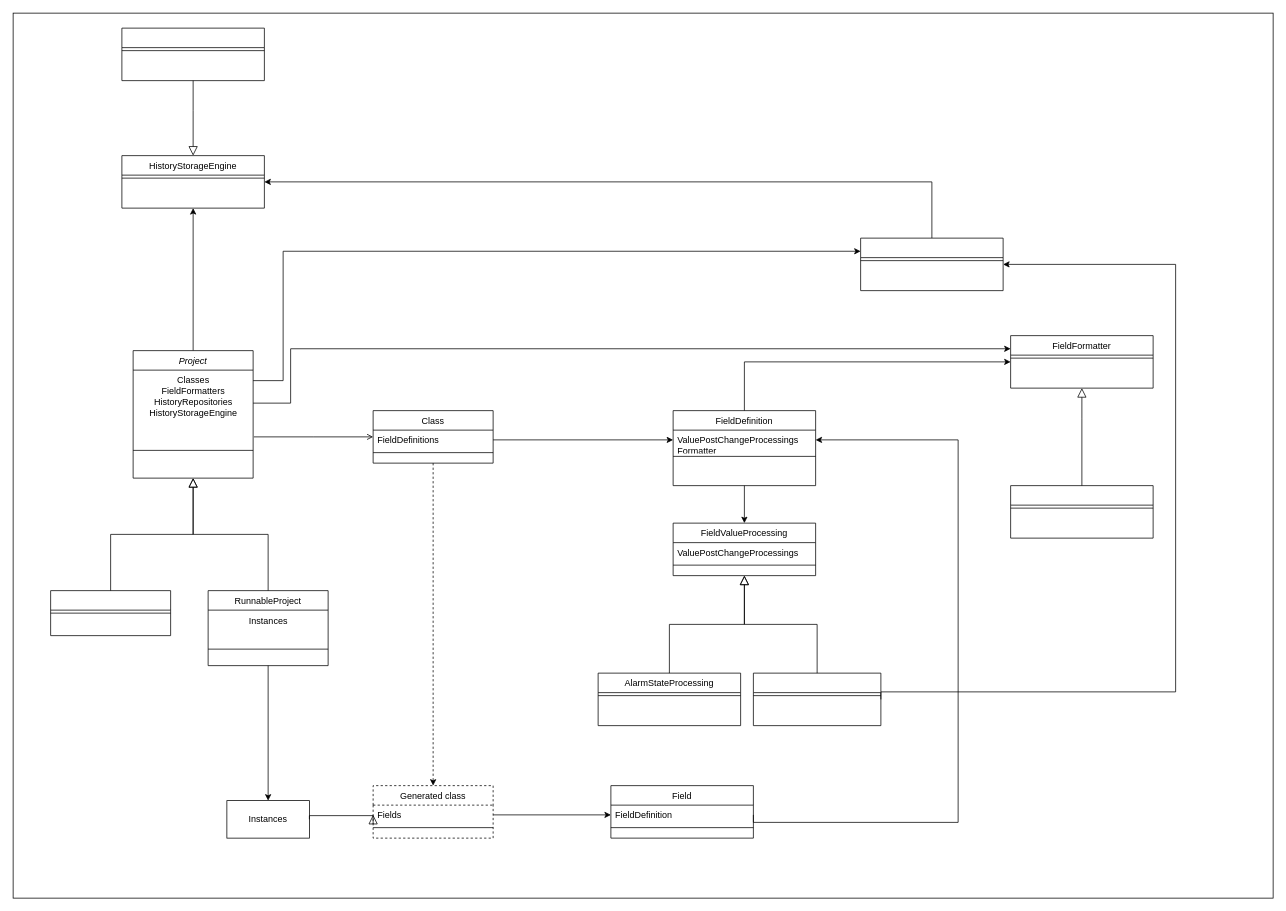
This 1286x911 diagram has some shape labels left out. The centre of each missing label's shape, as x and y in pixels:
"EnumFormatter" belongs at (1081,511).
"HistorizationProcessing" belongs at (817,699).
"HistoryRepository" belongs at (931,264).
"TDengineHistoryStorage" belongs at (192,54).
"WipProject" belongs at (110,613).
